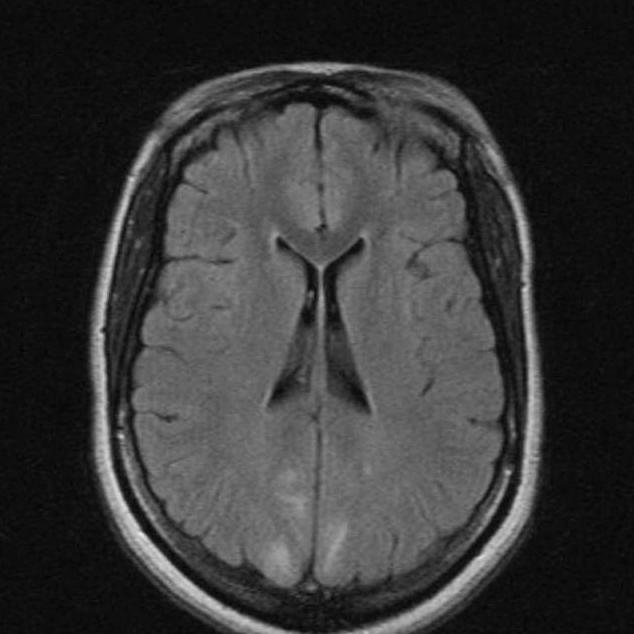Normal_Brain: (104, 106, 634, 634)
